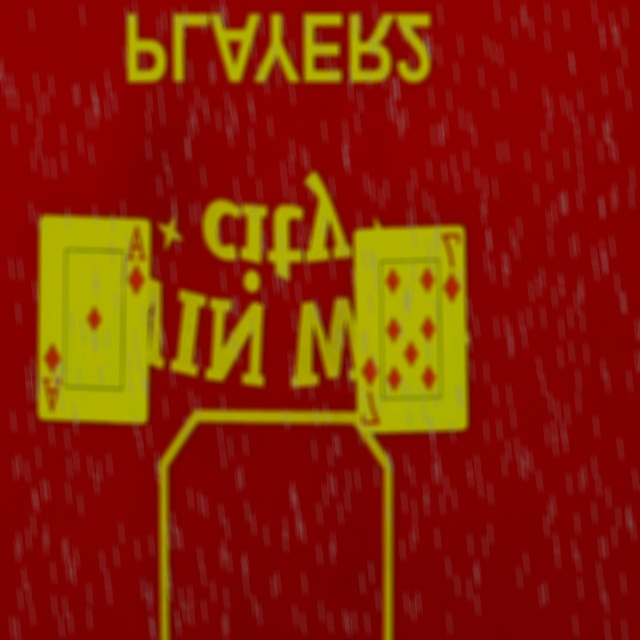7D: (441, 230, 466, 307), (358, 354, 382, 432)
AD: (123, 225, 151, 304), (38, 340, 64, 416)
